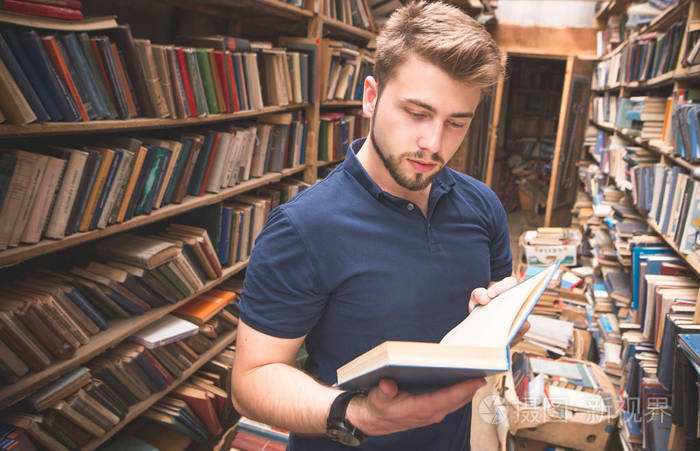book: (313, 257, 560, 440)
